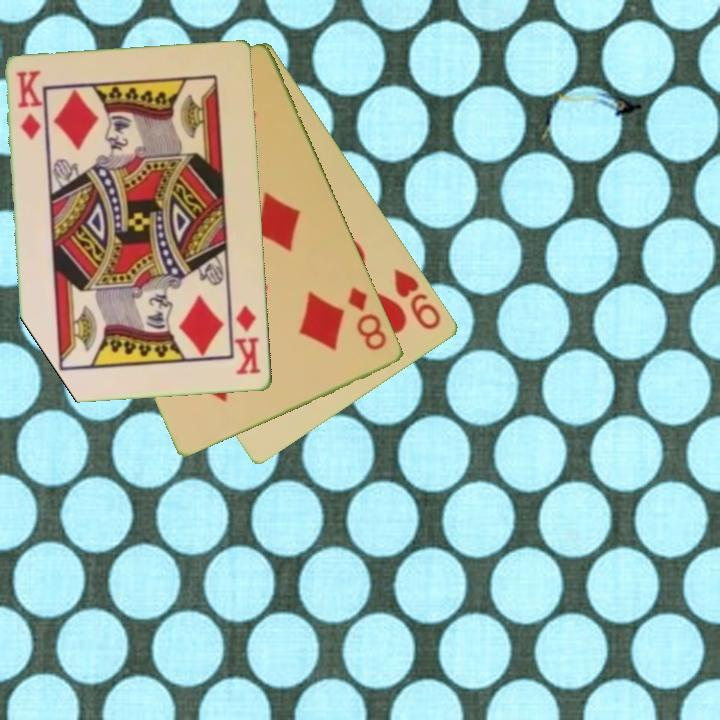8d: (345, 283, 390, 354)
9h: (391, 265, 445, 334)
Kd: (231, 302, 263, 378), (13, 67, 45, 143)
